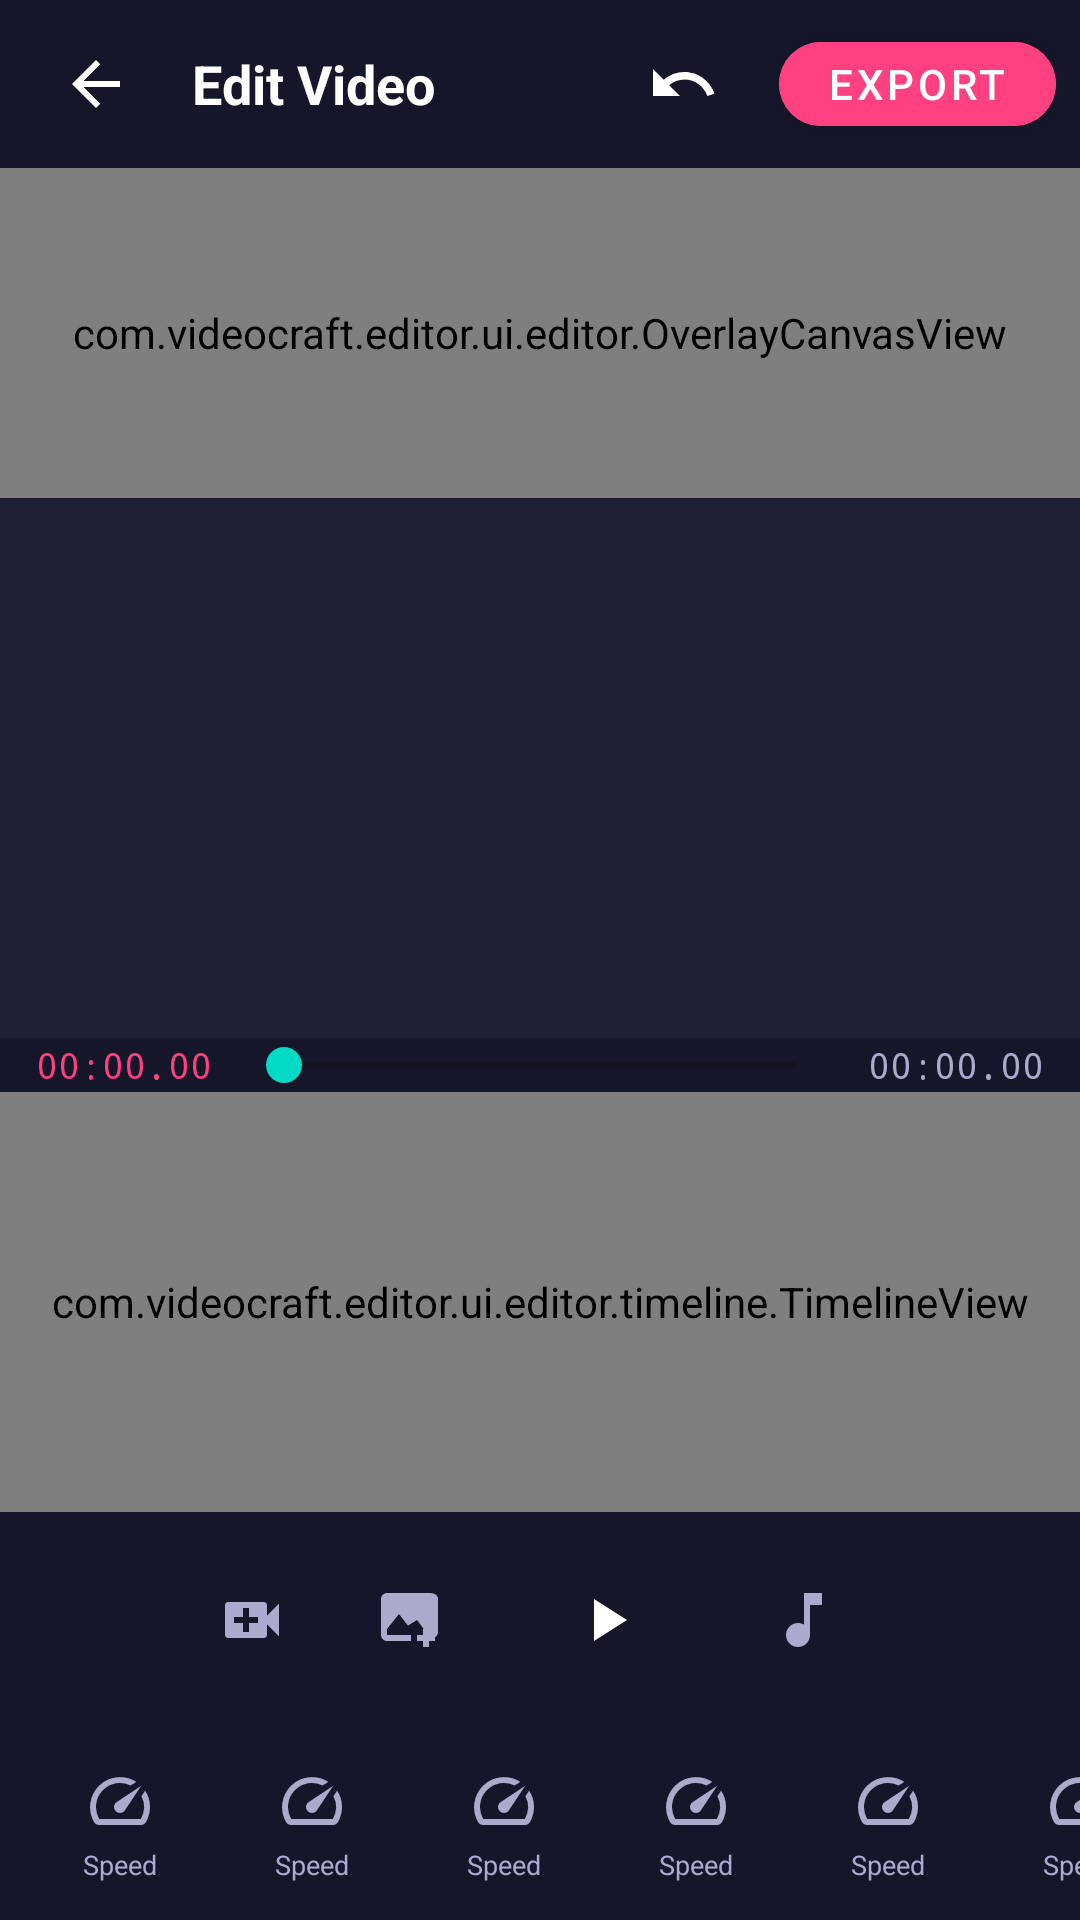

Point at icon controls on the screen. Image size 1080x1920, points as [x,y].
Add Audio: [804,1620]
Add Image: [409,1620]
Add Video: [252,1620]
arrow back: [96,84]
Play / Pause: [610,1620]
undo: [684,82]
